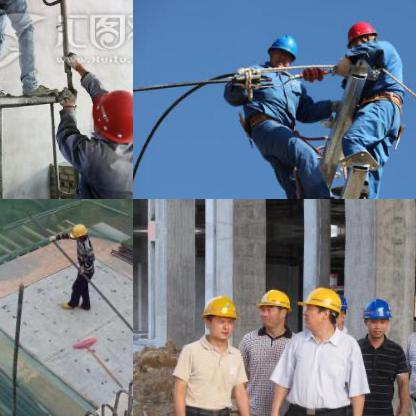Helmet: (83, 85, 132, 162), (297, 286, 341, 336), (197, 291, 237, 344), (256, 286, 292, 330), (264, 30, 300, 70), (362, 294, 390, 342), (344, 18, 378, 46), (70, 222, 88, 242)
